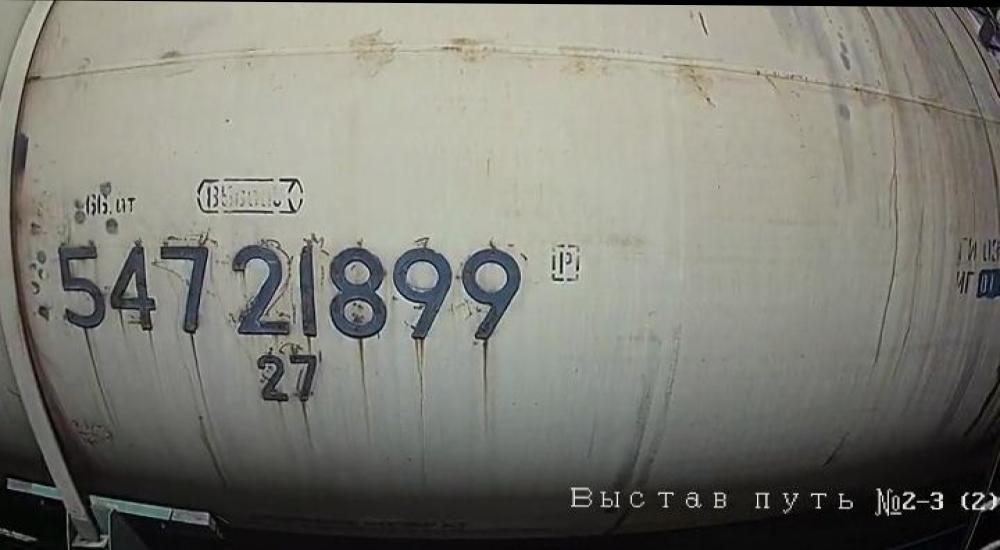Wagon-number: (48, 238, 531, 347)
